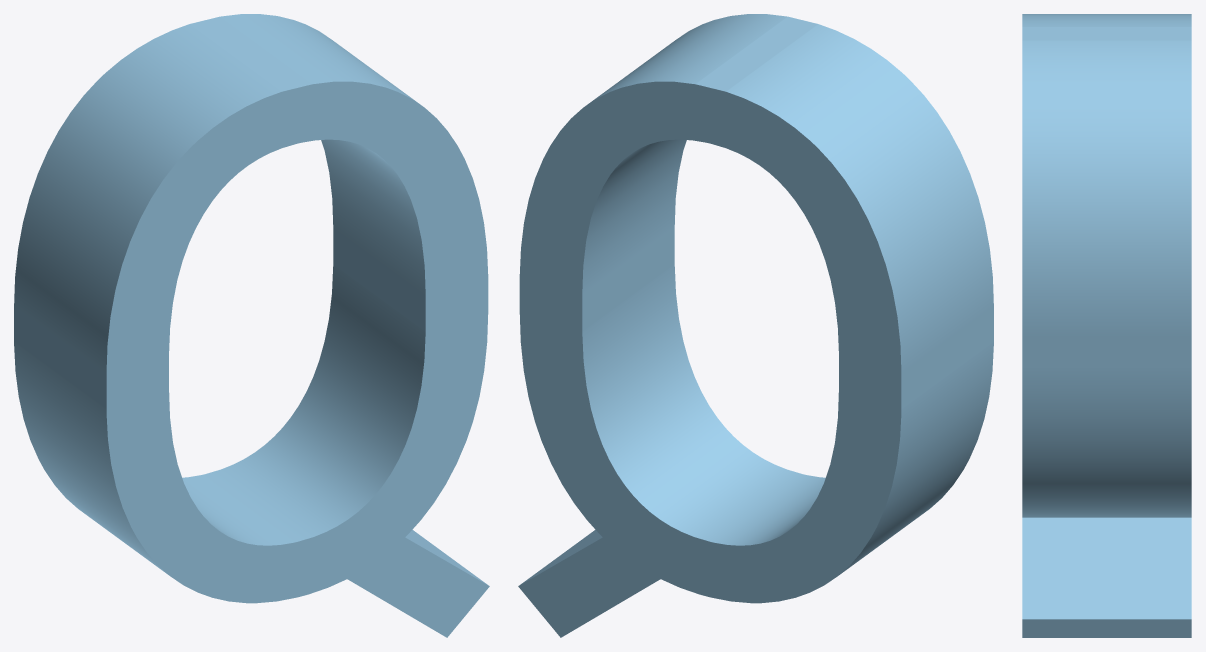
File: letter_q.obj
3 renders of one model, left to right at view 1: azimuth 30°, elevation 25°; view 2: azimuth 150°, elevation 25°; view 3: azimuth 270°, elevation 25°, orthographic. The views are drawn at different scales.
Parts seen in each view (by area): view 1: mesh19, mesh23, mesh4, mesh3, mesh24, mesh2, mesh6, mesh21, mesh0, mesh25, mesh22, mesh5 (+2 smaller); view 2: mesh20, mesh23, mesh4, mesh3, mesh24, mesh2, mesh6, mesh21, mesh0, mesh25, mesh22, mesh5 (+2 smaller); view 3: mesh17, mesh18, mesh15, mesh13, mesh0, mesh14, mesh16, mesh12, mesh1, mesh2.
Boxes of the visible parts, x1,y1,x2,y2 form: mesh19: (106,81,489,637); mesh23: (299,264,425,472); mesh4: (14,174,129,373); mesh3: (38,73,196,240); mesh24: (205,405,391,541); mesh2: (105,24,281,140); mesh6: (14,342,130,526); mesh21: (321,139,425,294); mesh0: (220,14,396,91); mesh25: (182,474,297,545); mesh22: (333,228,425,331); mesh5: (14,306,106,409); mesh20: (518,81,901,637); mesh23: (582,264,708,472); mesh4: (878,174,993,373); mesh3: (811,73,969,240); mesh24: (616,405,802,541); mesh2: (726,24,902,140); mesh6: (877,342,993,526); mesh21: (582,139,686,294); mesh0: (611,14,787,91); mesh25: (710,474,825,545); mesh22: (582,228,674,331); mesh5: (901,306,993,409); mesh17: (1022,211,1191,337); mesh18: (1022,105,1191,211); mesh15: (1022,367,1191,470); mesh13: (1022,517,1191,619); mesh0: (1022,40,1191,104); mesh14: (1022,470,1191,517); mesh16: (1022,338,1191,366); mesh12: (1022,619,1191,637); mesh1: (1022,27,1191,40); mesh2: (1022,14,1191,26).
Bounding box in the file's own units: 0.1216 × 0.1778 × 0.0508.
